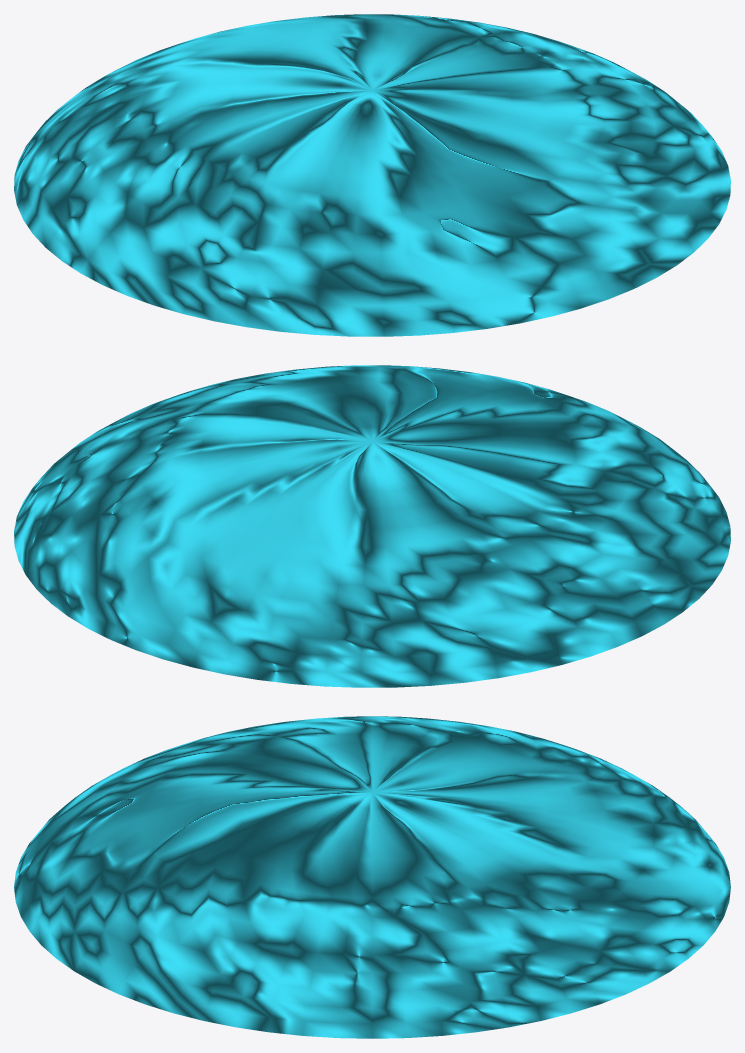
Rendered from single_dome_glass_a.glb.
3 renders of one model, top to bottom at view 1: azimuth 30°, elevation 25°; view 2: azimuth 150°, elevation 25°; view 3: azimuth 270°, elevation 25°, orthographic.
Size of the model in its own units: 182 by 26.56 by 182.
